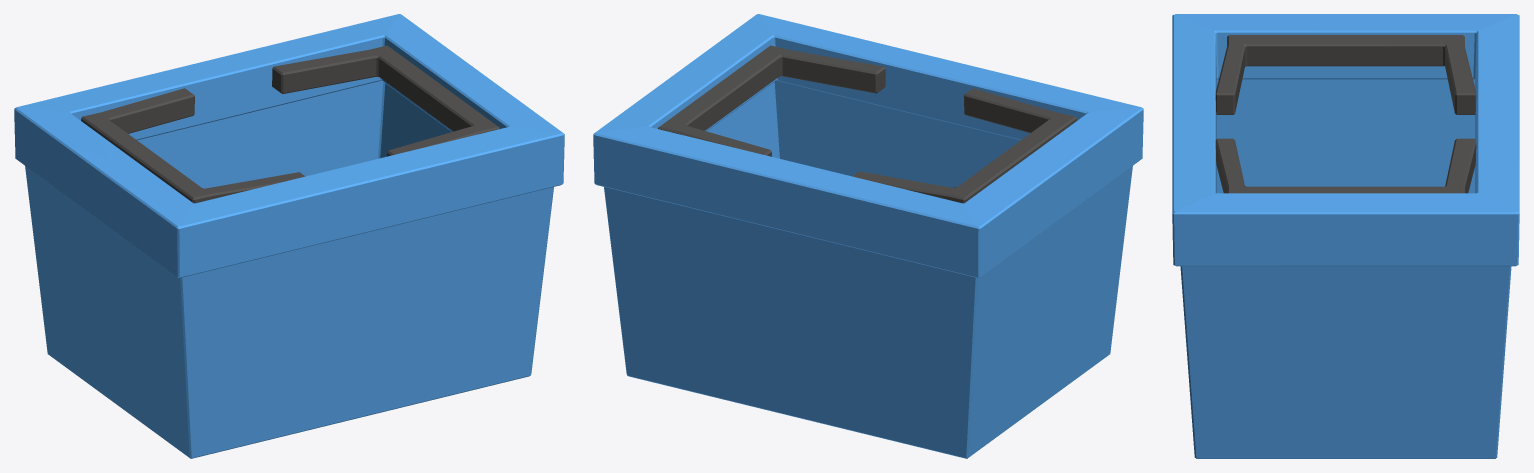
File: Basket_Closed_Blue.fbx
The picture shows the model from 3 angles, left to right: view 1: azimuth 30°, elevation 25°; view 2: azimuth 150°, elevation 25°; view 3: azimuth 270°, elevation 25°; orthographic projection. The views are drawn at different scales.
Visible parts, largest first — view 1: Basket_close; view 2: Basket_close; view 3: Basket_close.
Part boxes in pixels (bbox=[...]): Basket_close: bbox=[14, 14, 564, 458]; Basket_close: bbox=[593, 14, 1143, 458]; Basket_close: bbox=[1172, 14, 1519, 458].
Size of the model in its own units: 0.9336 by 0.5675 by 0.6874.
Materials: 1 (1 with a texture image).
